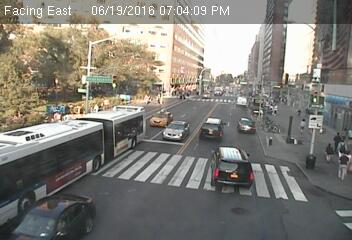neg: (85, 148, 110, 181), (124, 129, 143, 155), (134, 106, 146, 123)
pos: (320, 142, 337, 164), (296, 117, 312, 139)
